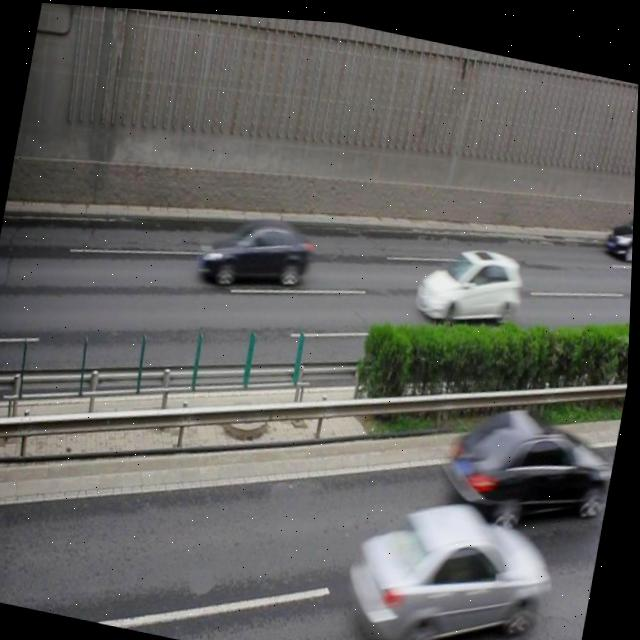car: (340, 474, 560, 640), (442, 386, 618, 533), (196, 201, 317, 298), (413, 228, 528, 328), (603, 198, 635, 253)
